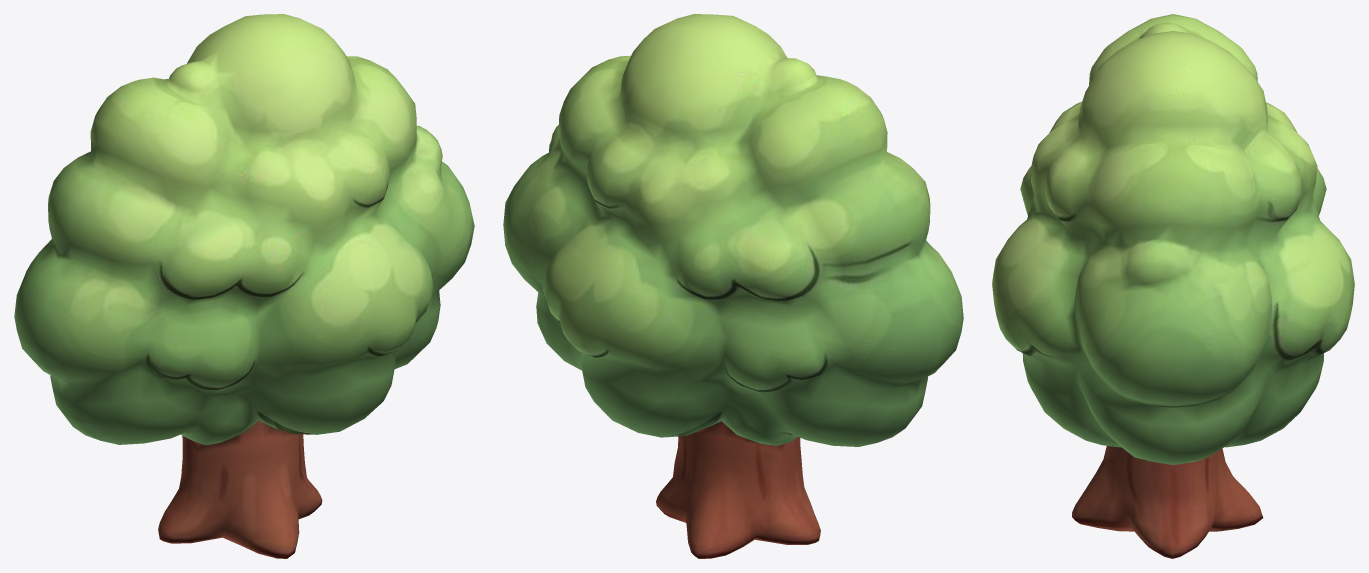
Rendered from item-tree.glb.
3 views of the same model, side by side, from view 1: azimuth 30°, elevation 25°; view 2: azimuth 150°, elevation 25°; view 3: azimuth 270°, elevation 25° (orthographic).
Size of the model in its own units: 0.8721 by 0.9517 by 0.6274.
Materials: 1 (1 with a texture image).
